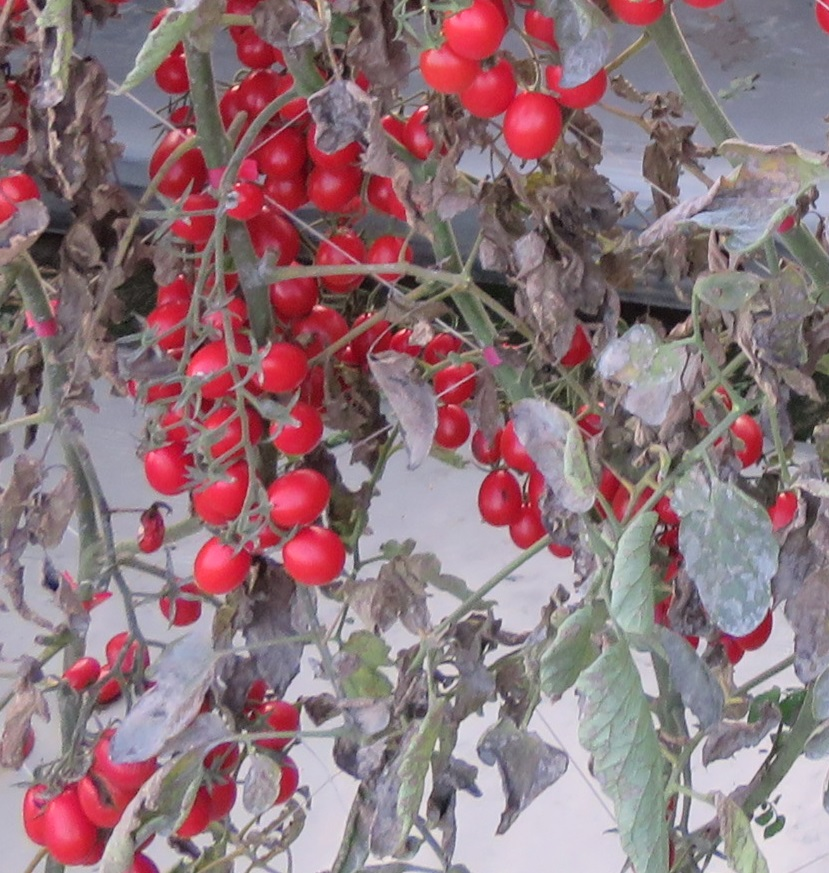red: (43, 785, 97, 865), (244, 339, 318, 396), (149, 127, 208, 198), (261, 467, 330, 527), (501, 94, 563, 159), (92, 730, 157, 792), (280, 525, 347, 585), (440, 1, 504, 60), (191, 532, 250, 594), (185, 339, 240, 402), (201, 407, 267, 459), (546, 57, 608, 111), (418, 46, 481, 96), (308, 160, 367, 213), (254, 123, 308, 177), (461, 65, 514, 120), (76, 773, 128, 829), (203, 463, 256, 517), (269, 262, 319, 319), (295, 306, 349, 357), (478, 461, 519, 527), (401, 103, 446, 161), (273, 403, 323, 454), (248, 701, 301, 749), (239, 69, 281, 124), (1, 172, 40, 227), (725, 415, 765, 468), (144, 302, 187, 351), (366, 236, 414, 279), (158, 579, 201, 627), (176, 783, 213, 838), (353, 310, 392, 362), (105, 633, 152, 675), (262, 755, 300, 806), (147, 446, 186, 495), (501, 417, 536, 471), (432, 362, 478, 402), (510, 507, 548, 554), (435, 402, 470, 452), (207, 772, 239, 822), (152, 59, 193, 98), (22, 782, 45, 850), (223, 183, 265, 220), (736, 610, 773, 651), (608, 1, 664, 26), (768, 489, 799, 534), (137, 510, 165, 555), (63, 657, 102, 689), (422, 333, 465, 362), (199, 742, 241, 769), (390, 329, 420, 359)
